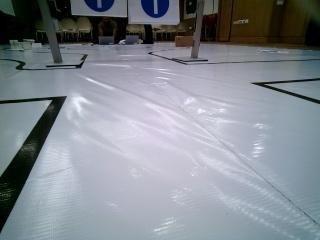straight: (129, 0, 180, 24), (70, 0, 127, 18)
